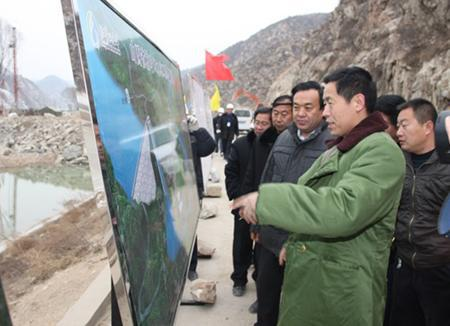head: (321, 62, 376, 137), (391, 94, 441, 156), (290, 78, 327, 133), (375, 95, 408, 141), (269, 92, 299, 133), (250, 105, 276, 139)
